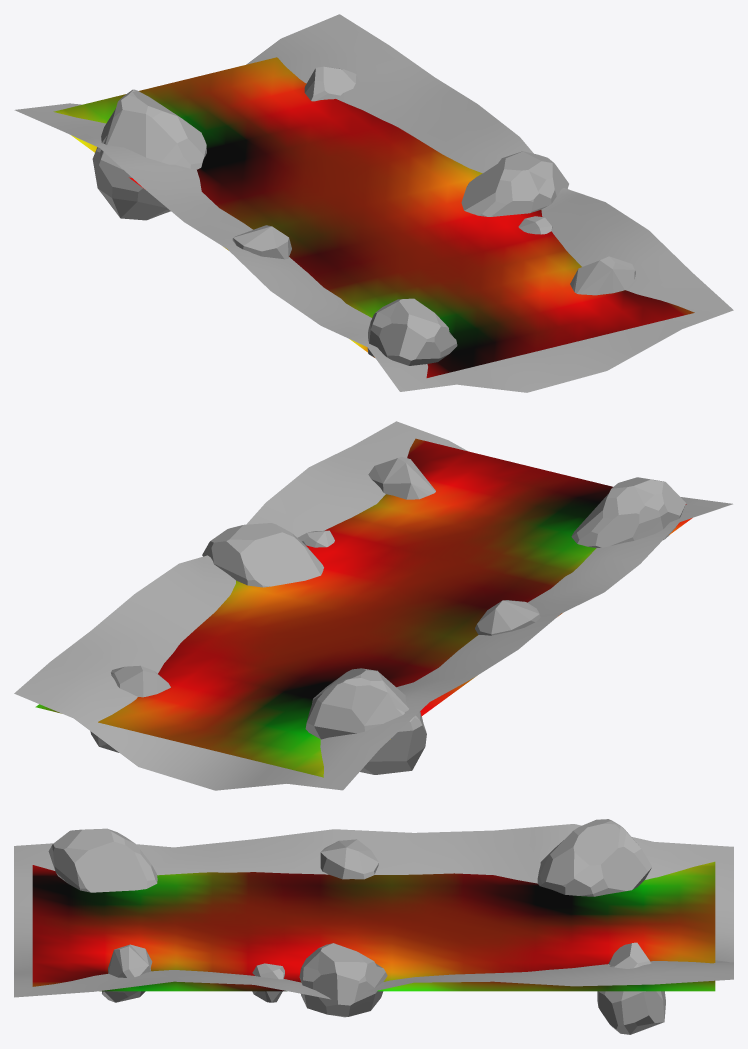
File: River_Grp.fbx
3 renders of one model, top to bottom at view 1: azimuth 30°, elevation 25°; view 2: azimuth 150°, elevation 25°; view 3: azimuth 270°, elevation 25°, orthographic. The views are drawn at different scales.
Visible parts, largest first — view 1: River, Ground, Rock_C, Rock_B, Rock_A; view 2: River, Ground, Rock_C, Rock_B, Rock_A; view 3: River, Ground, Rock_C, Rock_B, Rock_A.
Boxes of the visible parts, x1=… form: River: x1=53, y1=57, x2=694, y2=377; Ground: x1=14, y1=14, x2=733, y2=392; Rock_C: x1=367, y1=151, x2=568, y2=365; Rock_B: x1=92, y1=66, x2=356, y2=220; Rock_A: x1=232, y1=216, x2=635, y2=295; River: x1=35, y1=438, x2=692, y2=777; Ground: x1=14, y1=421, x2=732, y2=790; Rock_C: x1=202, y1=477, x2=685, y2=587; Rock_B: x1=90, y1=665, x2=426, y2=774; Rock_A: x1=297, y1=456, x2=540, y2=635; River: x1=32, y1=861, x2=715, y2=991; Ground: x1=14, y1=824, x2=733, y2=999; Rock_C: x1=48, y1=828, x2=387, y2=1017; Rock_B: x1=537, y1=819, x2=665, y2=1034; Rock_A: x1=102, y1=839, x2=378, y2=1002.
Bounding box in the file's own units: 40.92 × 13.05 × 79.1.
